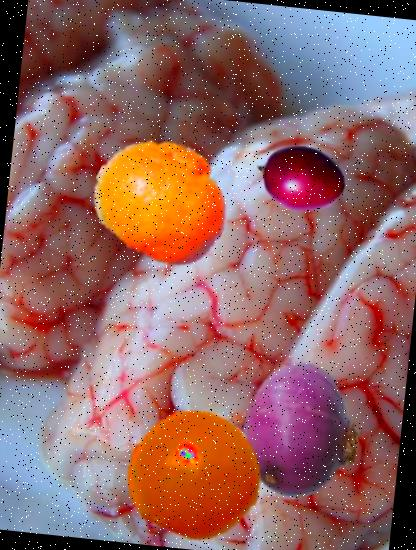Mandarine: (86, 124, 238, 276)
Onion: (218, 354, 370, 506)
Physalis: (122, 402, 270, 548)
Tamarillo: (250, 128, 350, 228)
